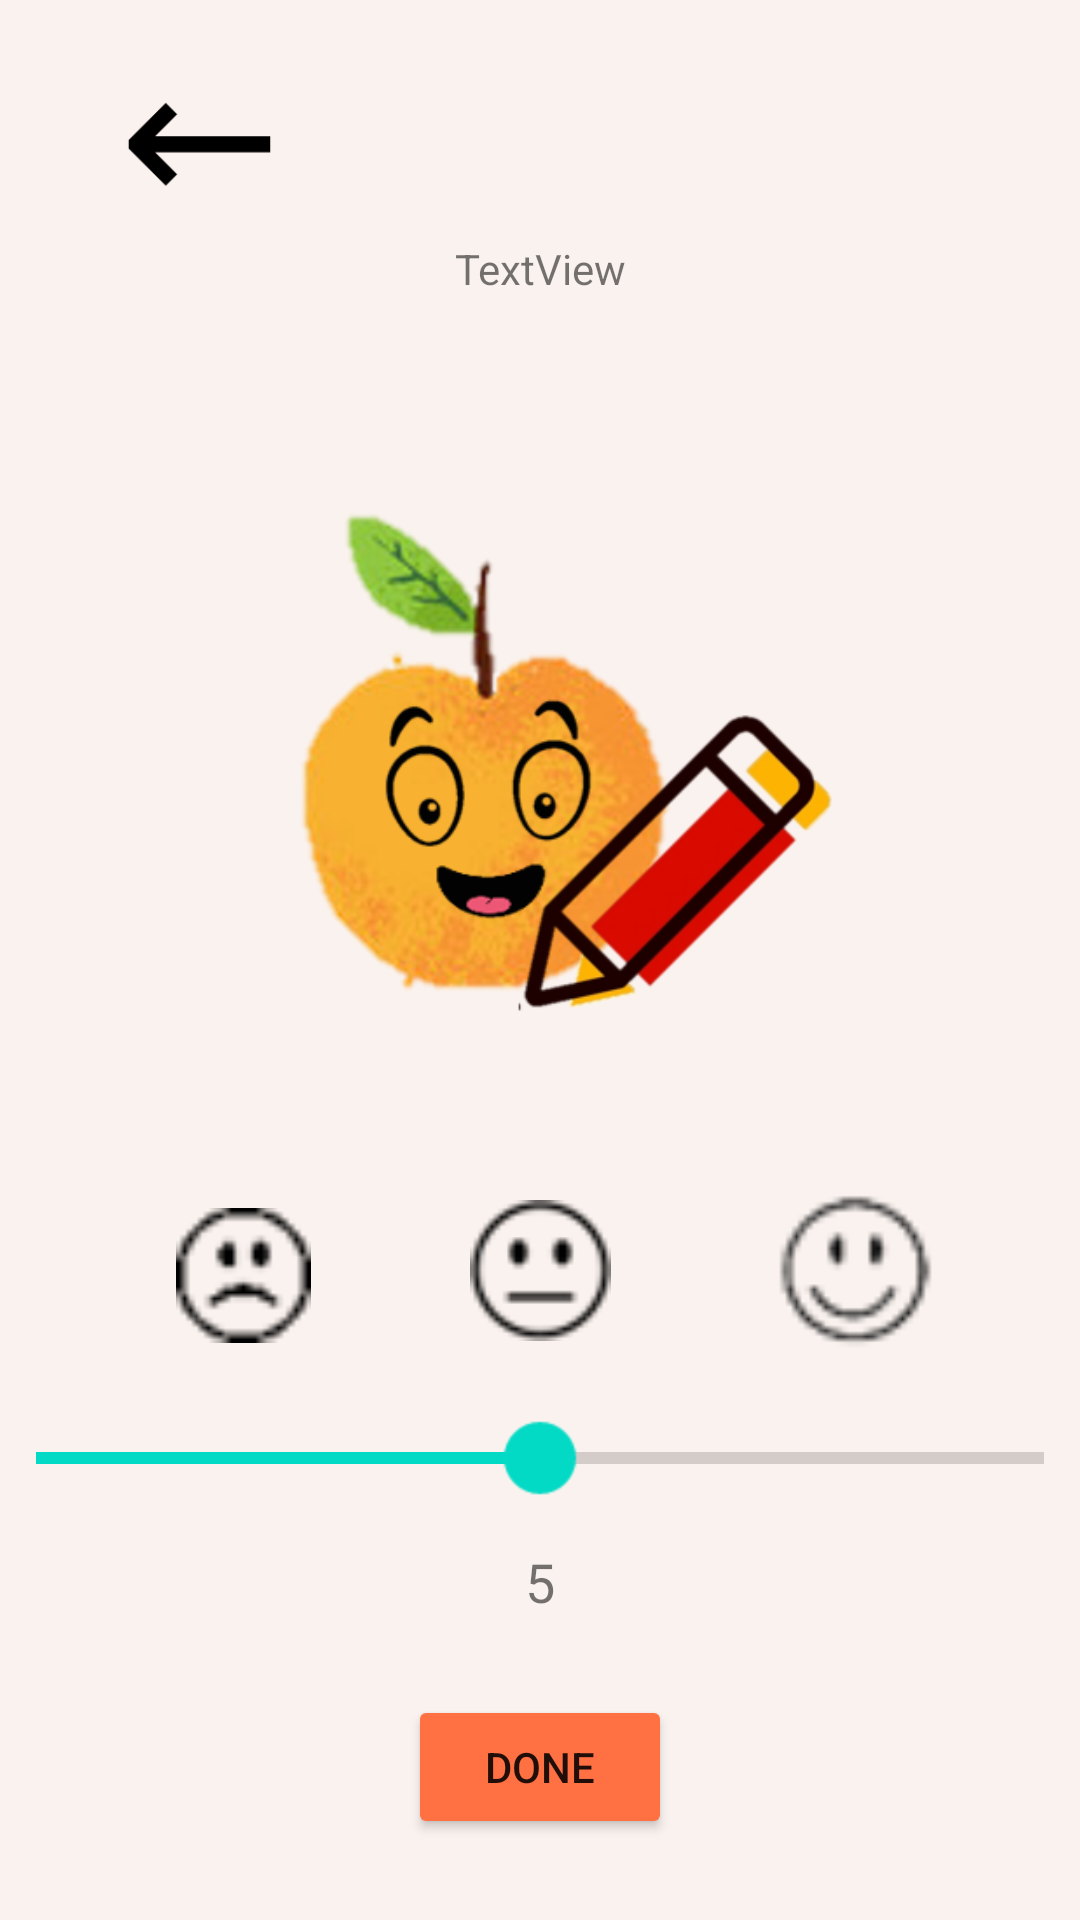

Point at icon controls on the screen. Image size 1080x1920, points as point (x, y).
back: point (199, 144)
mood: point (855, 1269), point (540, 1270), point (243, 1275)
